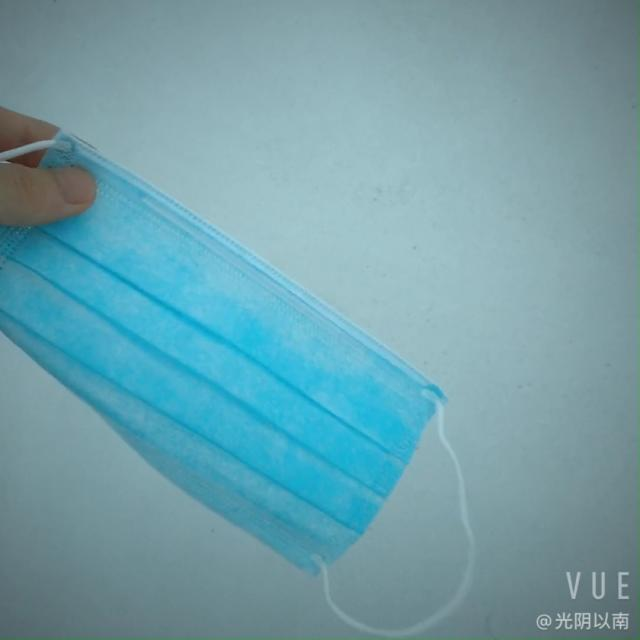face mask: (0, 116, 437, 571)
